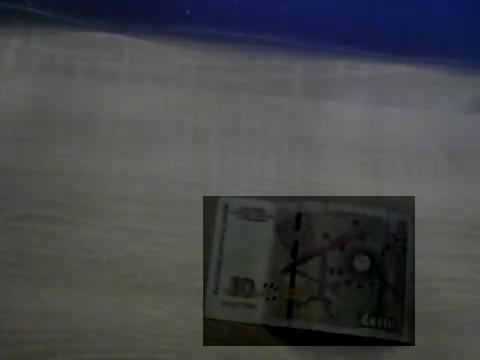10leva: (203, 196, 415, 346)
